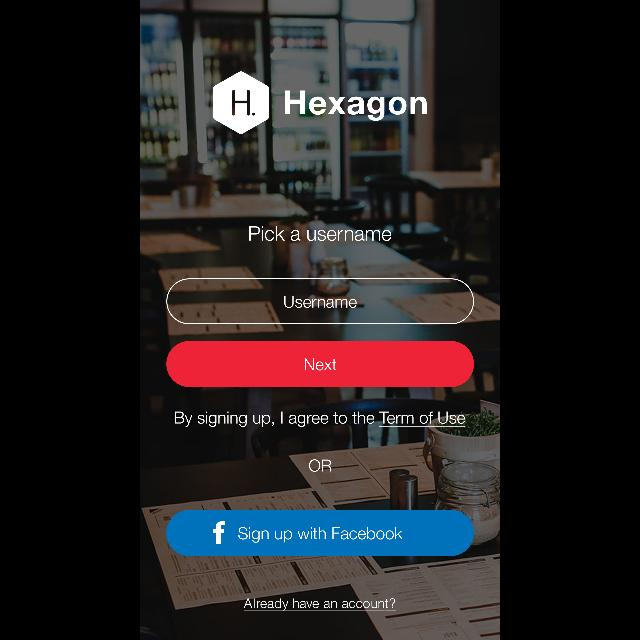backgroundimage: (140, 1, 500, 640)
image: (213, 72, 269, 134)
input: (166, 279, 474, 325)
text: (174, 411, 466, 427), (285, 90, 427, 122), (249, 226, 391, 242), (244, 598, 396, 610), (284, 296, 358, 308), (309, 460, 331, 472)
textbutton: (166, 341, 474, 387), (166, 510, 474, 556)
